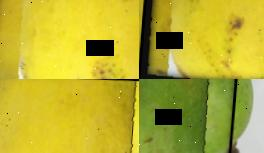Ripe: (0, 0, 139, 79), (0, 79, 139, 153), (139, 0, 264, 79)
Unripe: (139, 79, 237, 153)
